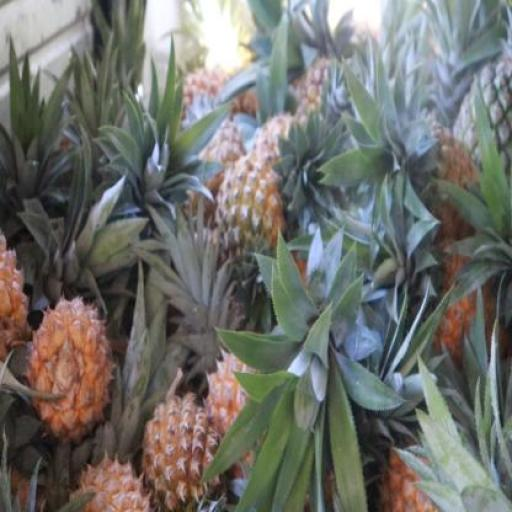Pineapple - v8 v1: (29, 301, 108, 435), (144, 399, 222, 512)
